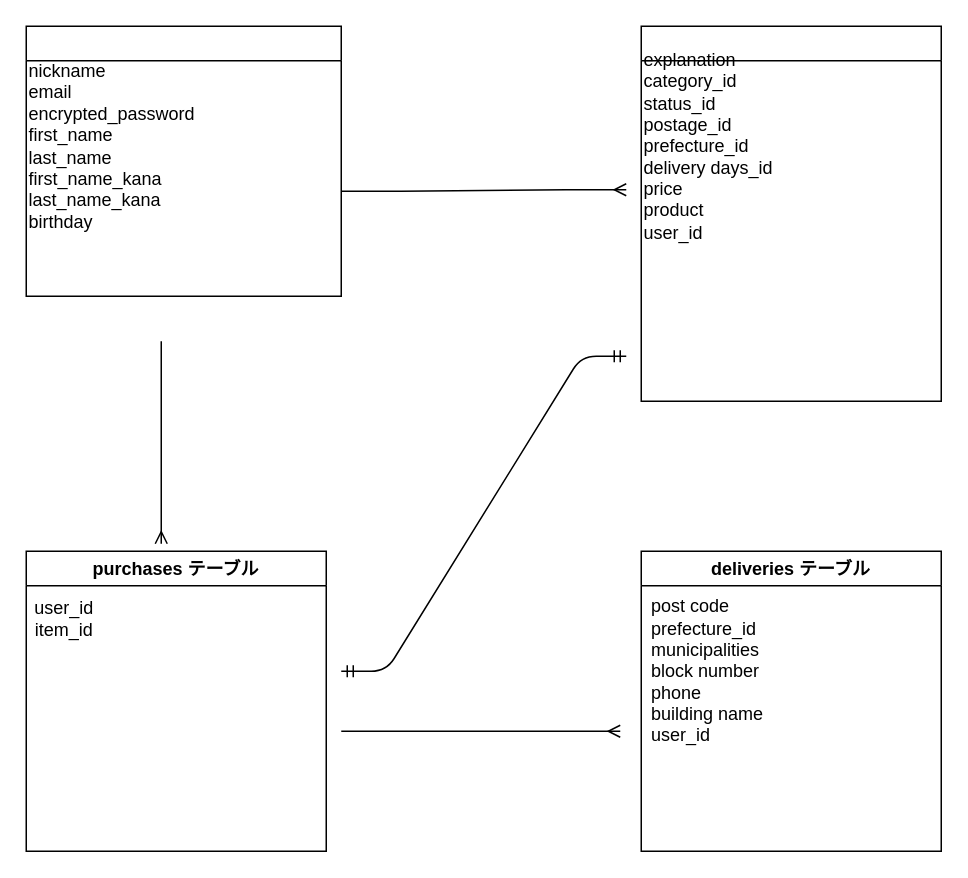
This 968x878 diagram has some shape labels left out. The box of each missing label's shape, as (x1, y1, x2, y2) in pixels:
items テーブル: (640, 25, 941, 401)
users テーブル: (25, 25, 341, 296)
